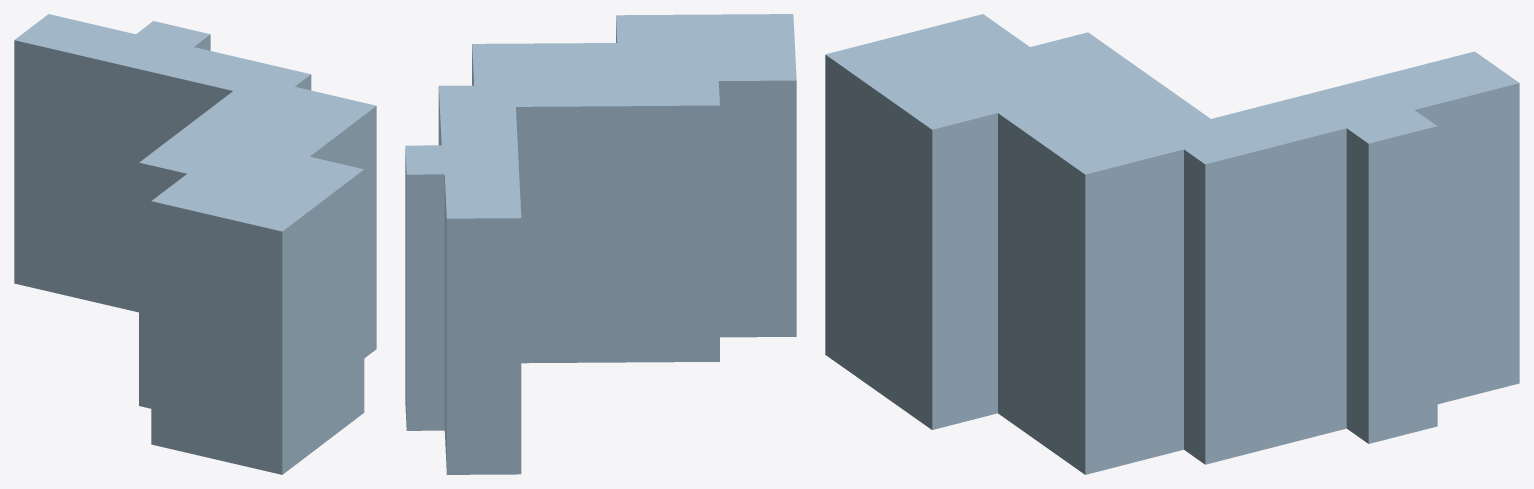
Rendered from osm_way_225242511.glb.
3 views of the same model, side by side, from view 1: azimuth 30°, elevation 25°; view 2: azimuth 150°, elevation 25°; view 3: azimuth 270°, elevation 25° (orthographic). The views are drawn at different scales.
Visible parts, largest first — view 1: osm_way_225242511; view 2: osm_way_225242511; view 3: osm_way_225242511.
Part boxes in pixels (bbox=[...]): osm_way_225242511: bbox=[14, 14, 376, 474]; osm_way_225242511: bbox=[405, 14, 796, 474]; osm_way_225242511: bbox=[825, 14, 1519, 474].
Bounding box in the file's own units: 22.03 × 19.2 × 40.24.
